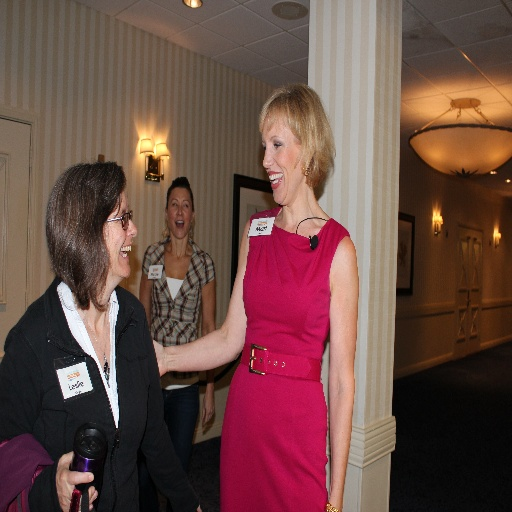hand: (40, 451, 84, 503), (150, 337, 168, 377), (200, 393, 216, 429)
